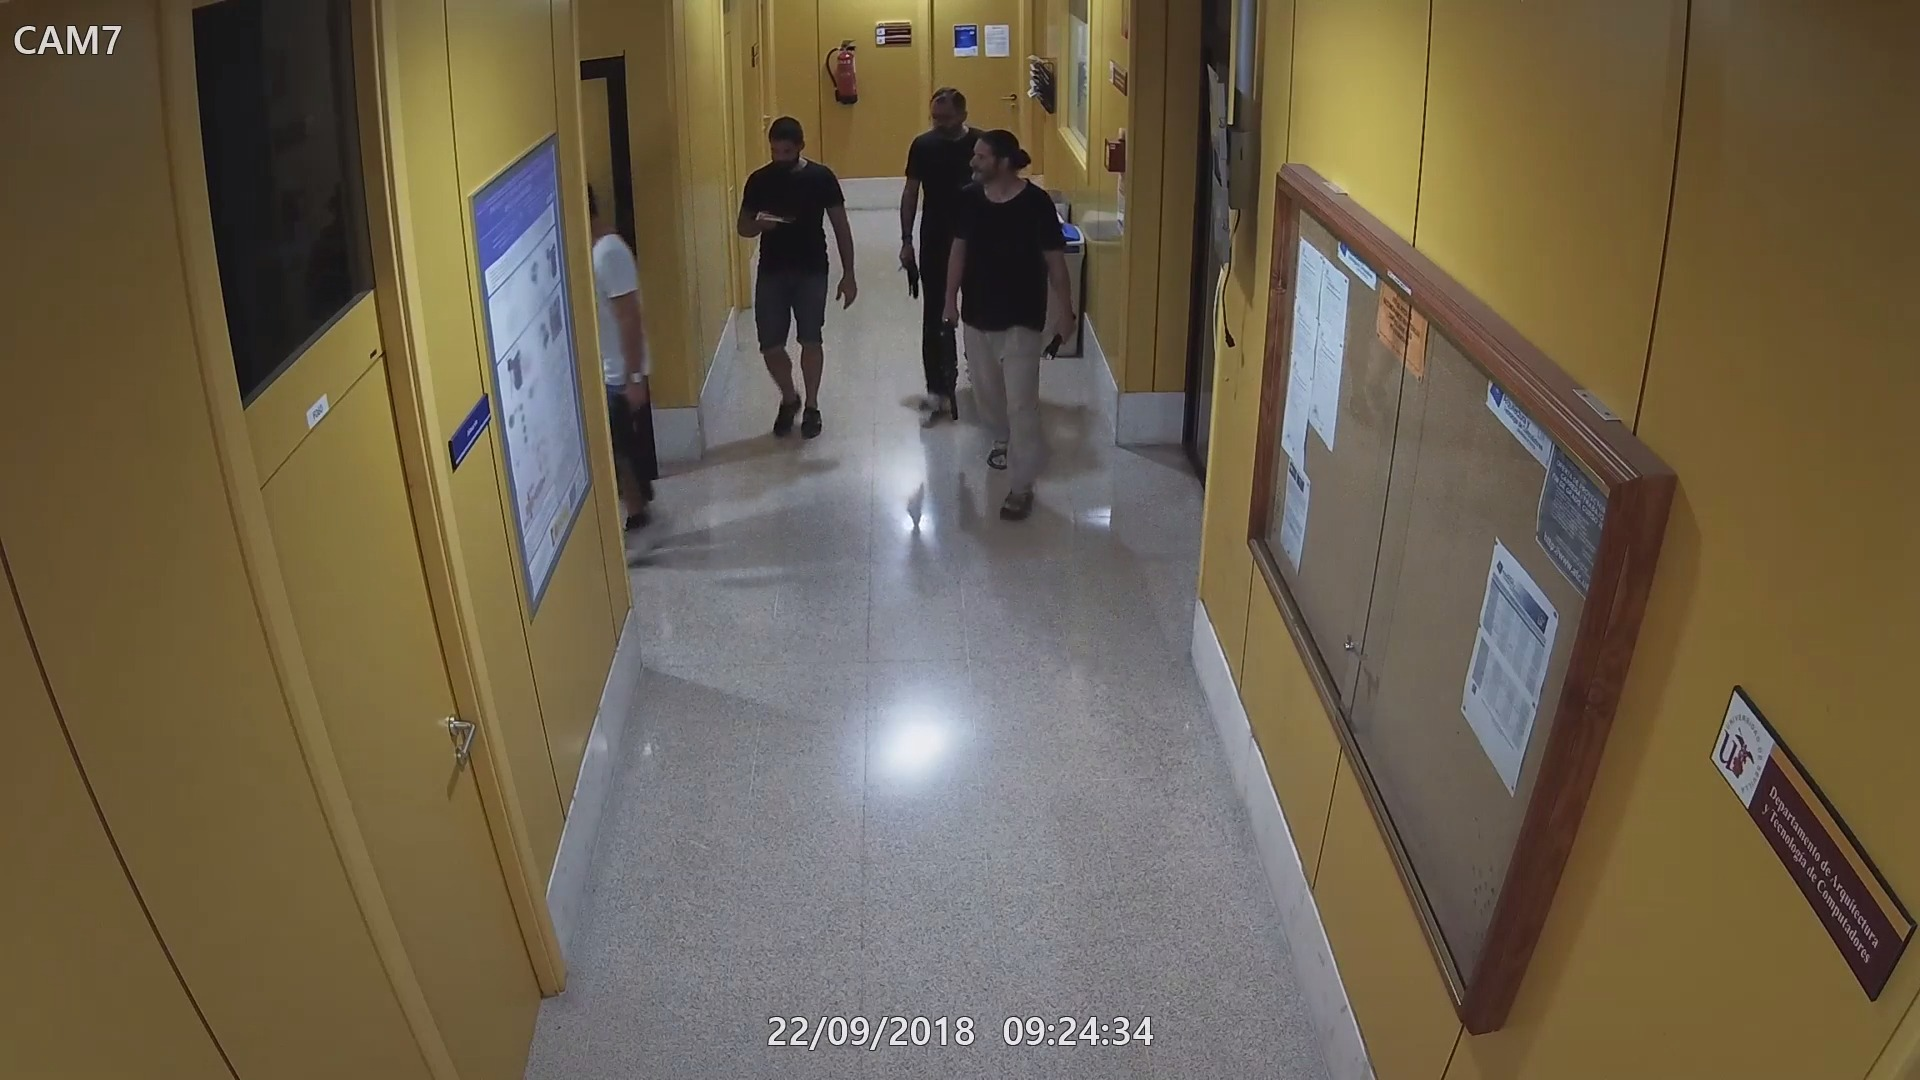pistol: (753, 210, 796, 240)
rifle: (617, 378, 654, 502), (938, 305, 964, 429)
